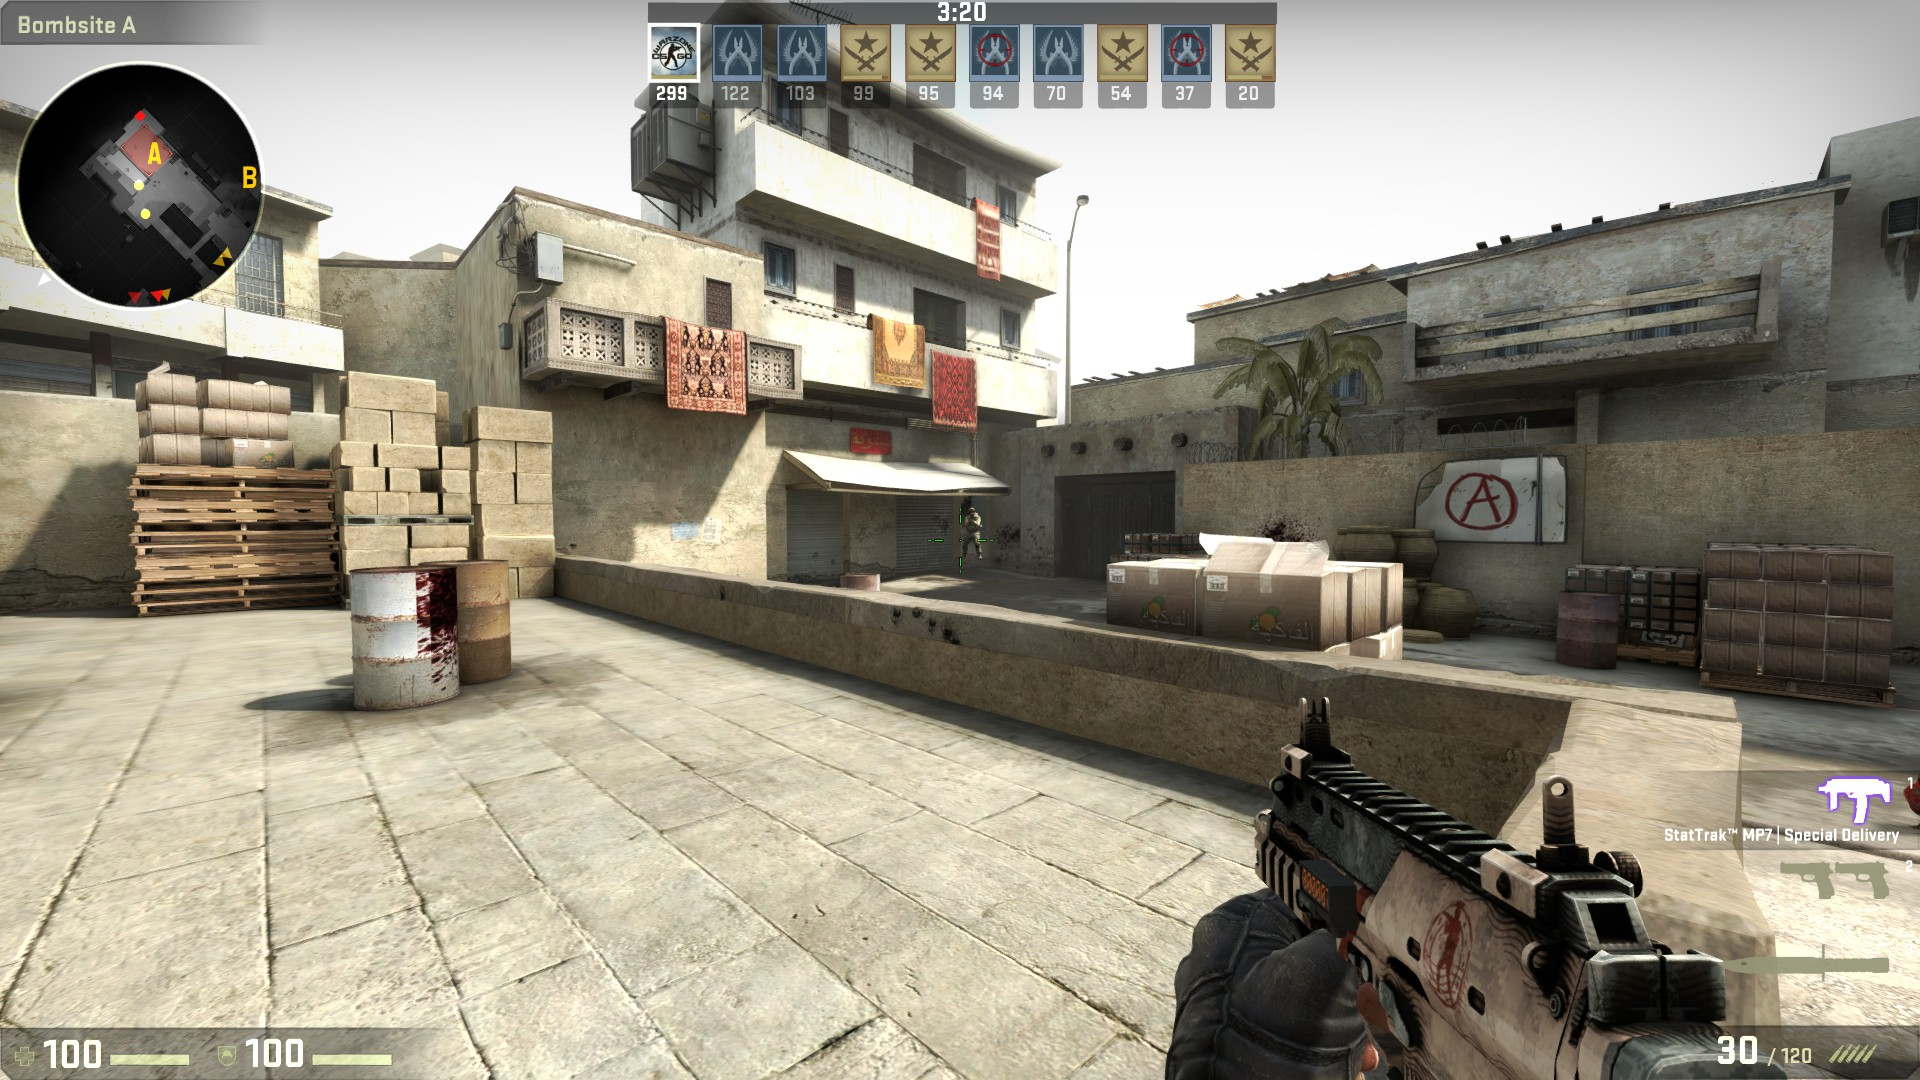c: (963, 506, 982, 560)
ch: (969, 506, 977, 518)
